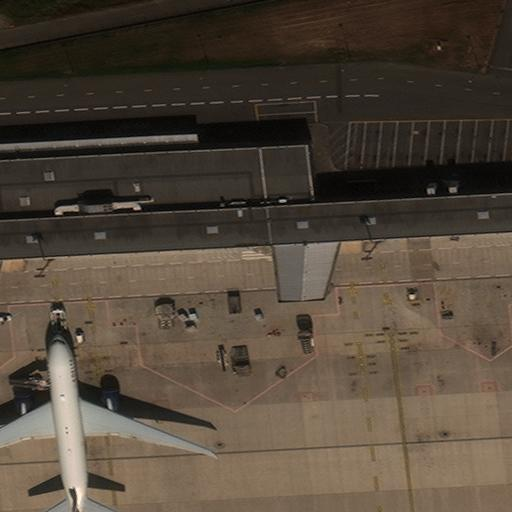Large Civil Transport: (0, 335, 211, 511)
